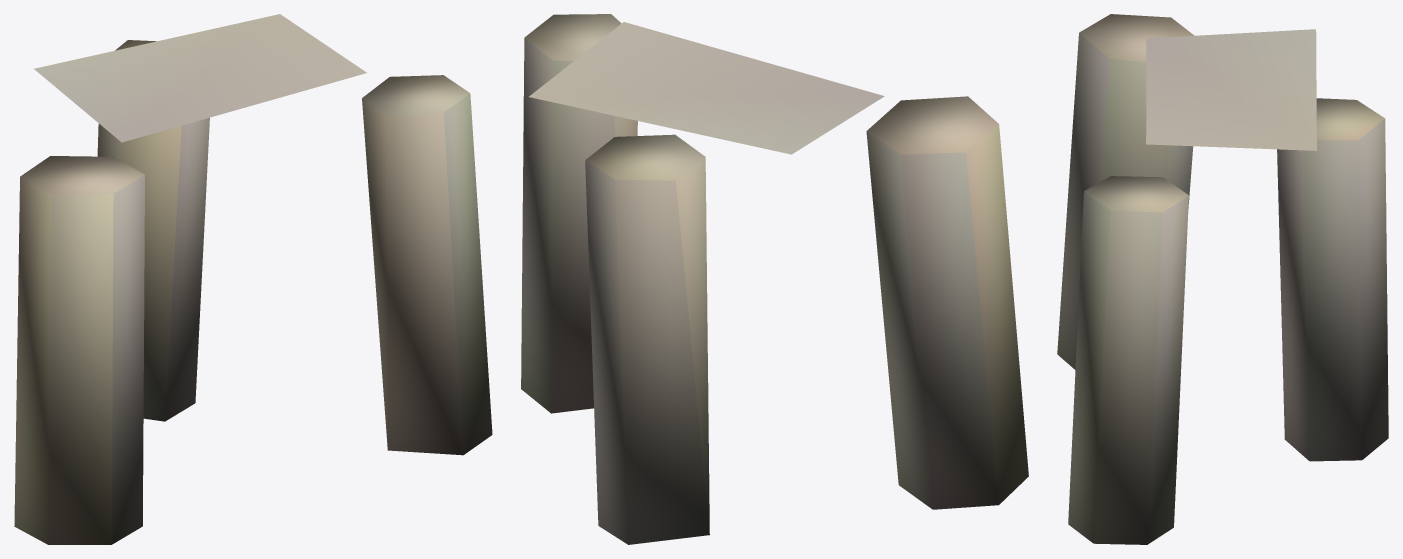
The model's file is megalith_bk_foret_broceliande_0005.glb.
The picture shows the model from 3 angles, left to right: view 1: azimuth 30°, elevation 25°; view 2: azimuth 150°, elevation 25°; view 3: azimuth 270°, elevation 25°; orthographic projection. The views are drawn at different scales.
Parts seen in each view (by area): view 1: megalith_bk_005; view 2: megalith_bk_005; view 3: megalith_bk_005.
Part boxes in pixels (x1,y1,x2,y2): megalith_bk_005: (14,14,492,544); megalith_bk_005: (521,14,1028,544); megalith_bk_005: (1057,14,1388,544).
Size of the model in its own units: 3.8 by 3 by 2.51.
